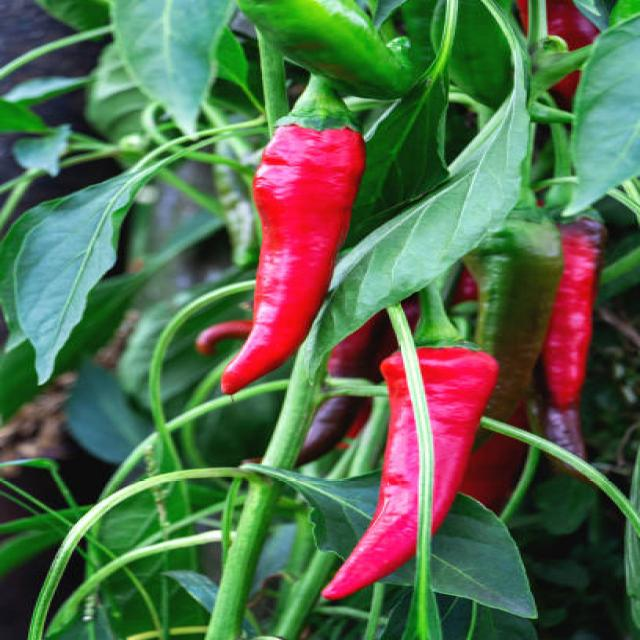Ripe: (221, 124, 364, 393), (322, 353, 419, 599), (417, 347, 497, 533), (543, 218, 602, 408)
Unripe: (464, 208, 562, 419)
